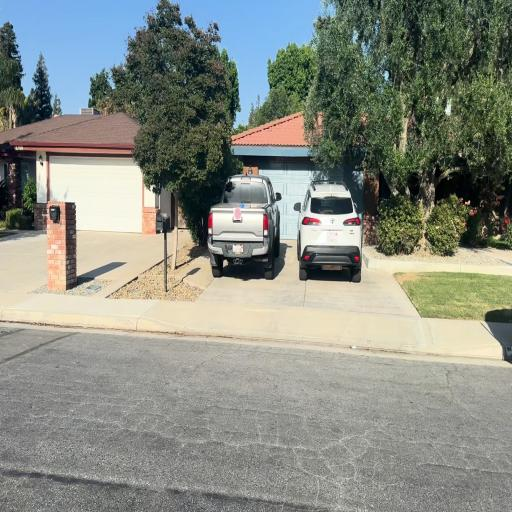bullseye: (234, 207, 241, 220)
